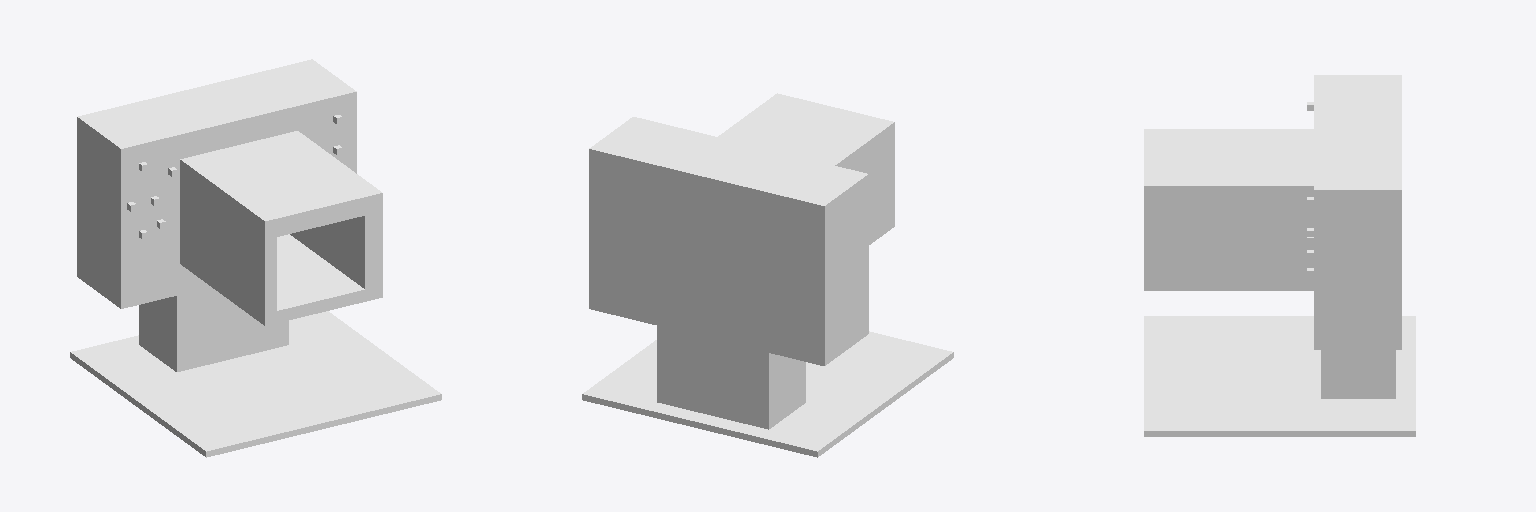
File: BigBob.obj
3 views of the same model, side by side, from view 1: azimuth 30°, elevation 25°; view 2: azimuth 150°, elevation 25°; view 3: azimuth 270°, elevation 25° (orthographic).
Parts seen in each view (by area): view 1: object 1; view 2: object 1; view 3: object 1.
Part boxes in pixels (x1,y1,x2,y2): object 1: (70, 59, 441, 457); object 1: (582, 93, 953, 457); object 1: (1144, 75, 1415, 436).
Bounding box in the file's own units: 4 × 4 × 4.